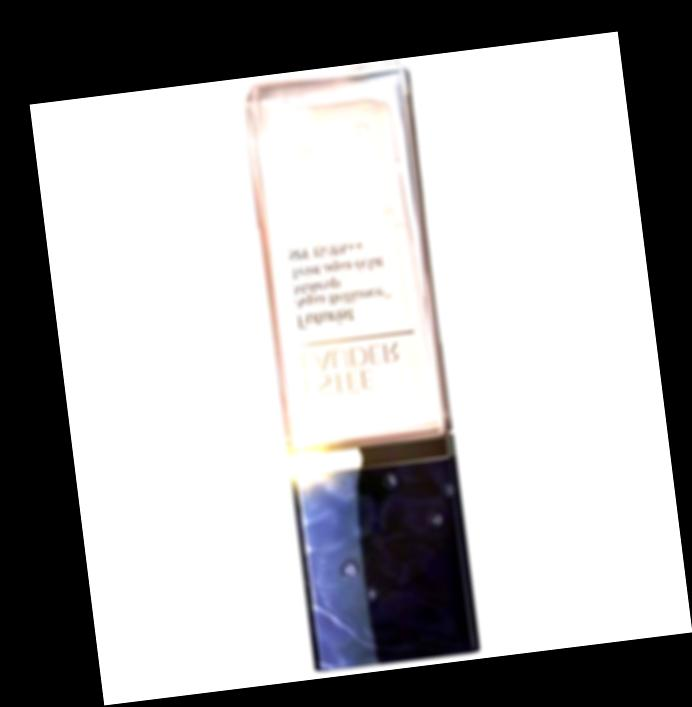cosmetic: (239, 60, 484, 674)
